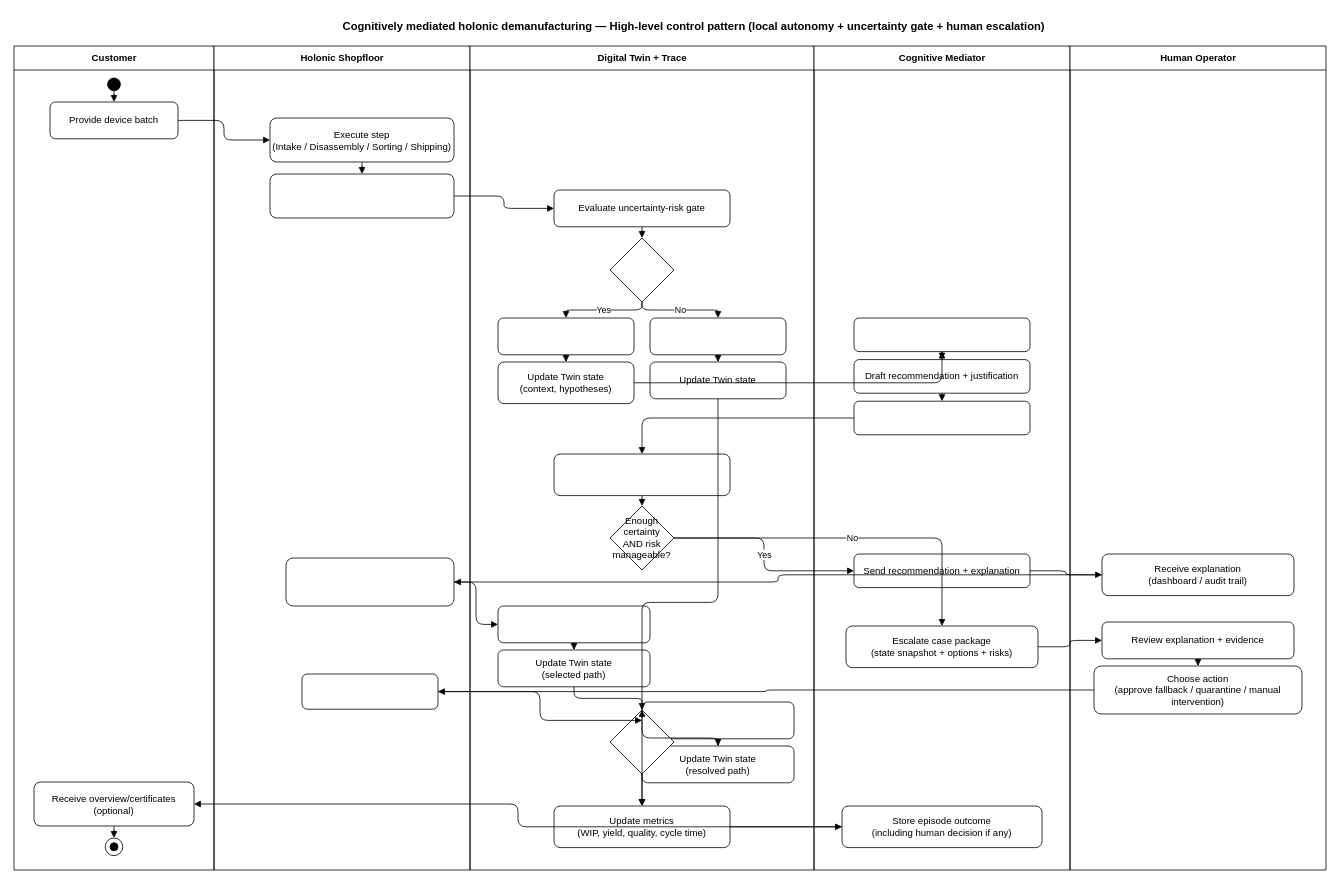
This 1340x884 diagram has some shape labels left out. The shapes that lost their labels are listed below. From the top down, each one's centre as x and y in pixels, then its label:
At (361,195): "Try local resolution (rules, checklists, safe fallbacks)".
At (641,269): "Uncertainty gate: Uncertainty × Risk > threshold?".
At (565,336): "Append trace event (uncertainty)".
At (717,336): "Append trace event (normal)".
At (941,334): "Query Twin + Policies + Episodes".
At (941,417): "Estimate confidence / residual risk".
At (641,474): "Assess mediator output (confidence + residual risk)".
At (369,581): "Apply recommendation (or stop/quarantine if needed)".
At (573,624): "Append trace event (mediated action)".
At (369,691): "Execute human decision".
At (717,720): "Append trace event (human decision)".
